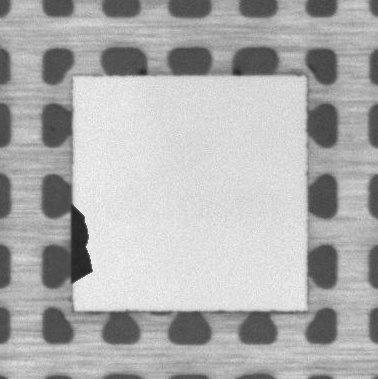DIE_BROKEN: (68, 207, 95, 284)
